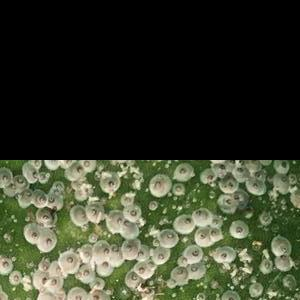Femea: (0, 171, 24, 191), (123, 240, 147, 260), (184, 247, 201, 274), (127, 263, 145, 286), (37, 231, 55, 250), (24, 166, 47, 180), (36, 275, 59, 288), (191, 208, 208, 225), (119, 218, 137, 234), (95, 244, 111, 260), (177, 214, 193, 230), (36, 210, 54, 224), (85, 204, 101, 219), (60, 255, 75, 271), (102, 176, 119, 190), (231, 222, 246, 237), (175, 165, 191, 179), (220, 197, 234, 212), (24, 228, 37, 244), (151, 176, 164, 192), (151, 250, 167, 263), (159, 231, 175, 244), (208, 215, 223, 228), (33, 192, 48, 205), (73, 208, 87, 221), (70, 165, 83, 178), (109, 212, 122, 225), (196, 231, 210, 243), (207, 227, 221, 239), (276, 159, 288, 173), (235, 165, 247, 179), (213, 163, 228, 174), (80, 267, 91, 280), (147, 199, 158, 211), (170, 183, 183, 193)
Macho: (238, 264, 251, 275), (258, 248, 269, 261), (236, 247, 247, 258), (123, 191, 135, 198), (88, 196, 102, 202)
